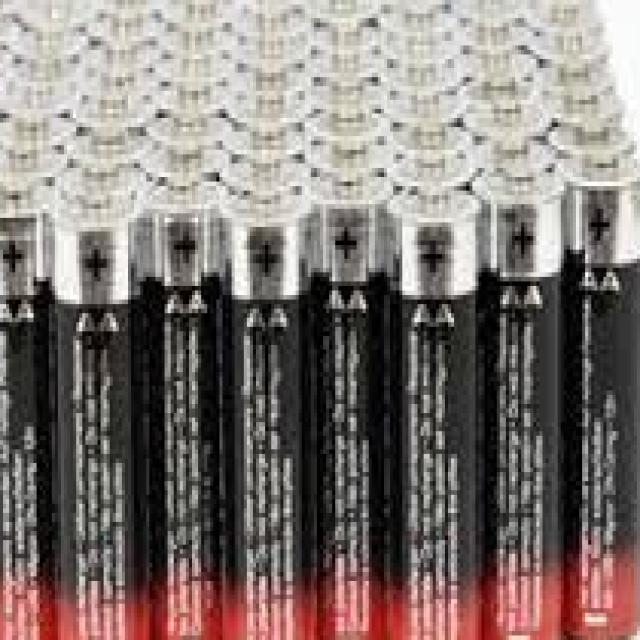organic: (215, 202, 309, 627), (315, 197, 397, 623), (401, 194, 480, 627), (562, 179, 635, 623), (52, 221, 131, 624), (493, 194, 565, 623), (137, 211, 209, 628), (3, 220, 51, 627)
